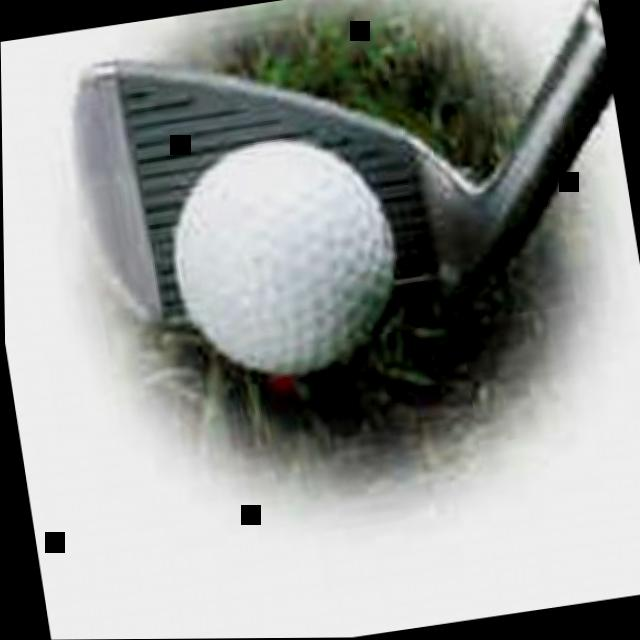golf ball: (134, 115, 422, 403)
